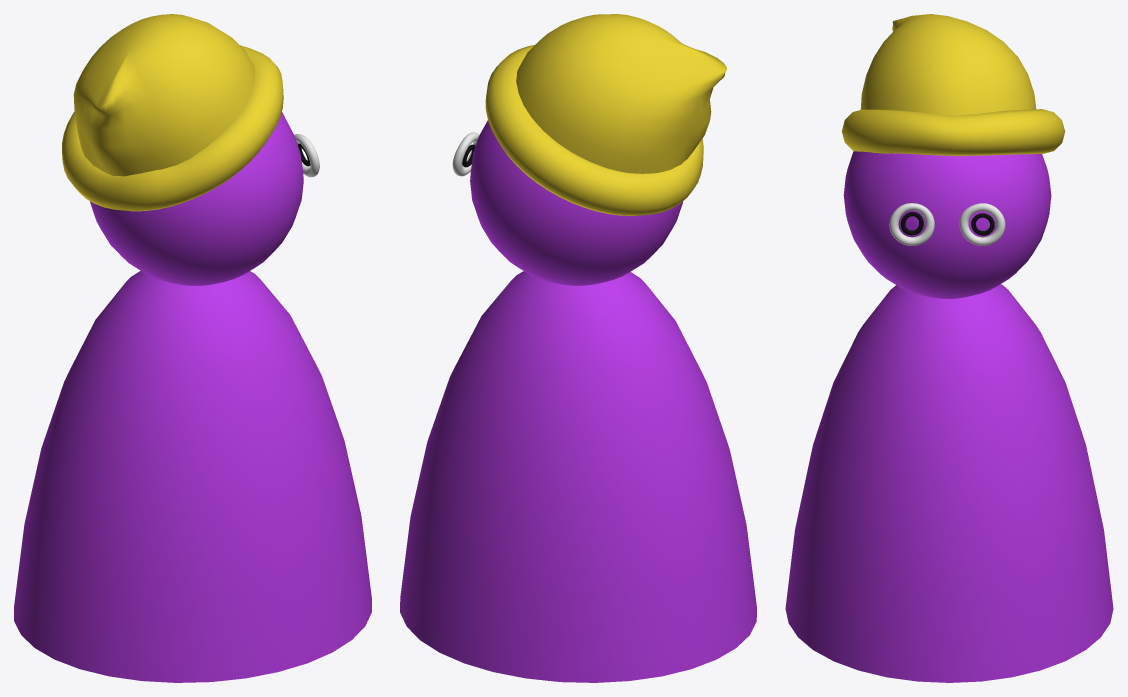
Rendered from PurpleChrcht2.fbx.
The picture shows the model from 3 angles, left to right: view 1: azimuth 30°, elevation 25°; view 2: azimuth 150°, elevation 25°; view 3: azimuth 270°, elevation 25°; orthographic projection. The views are drawn at different scales.
Parts seen in each view (by area): view 1: Sphere; view 2: Sphere; view 3: Sphere.
Boxes of the visible parts, box(x1,y1,x2,y2) form: Sphere: box(14, 14, 371, 682); Sphere: box(400, 14, 756, 682); Sphere: box(785, 14, 1113, 682).
Bounding box in the file's own units: 129 × 231 × 120.
